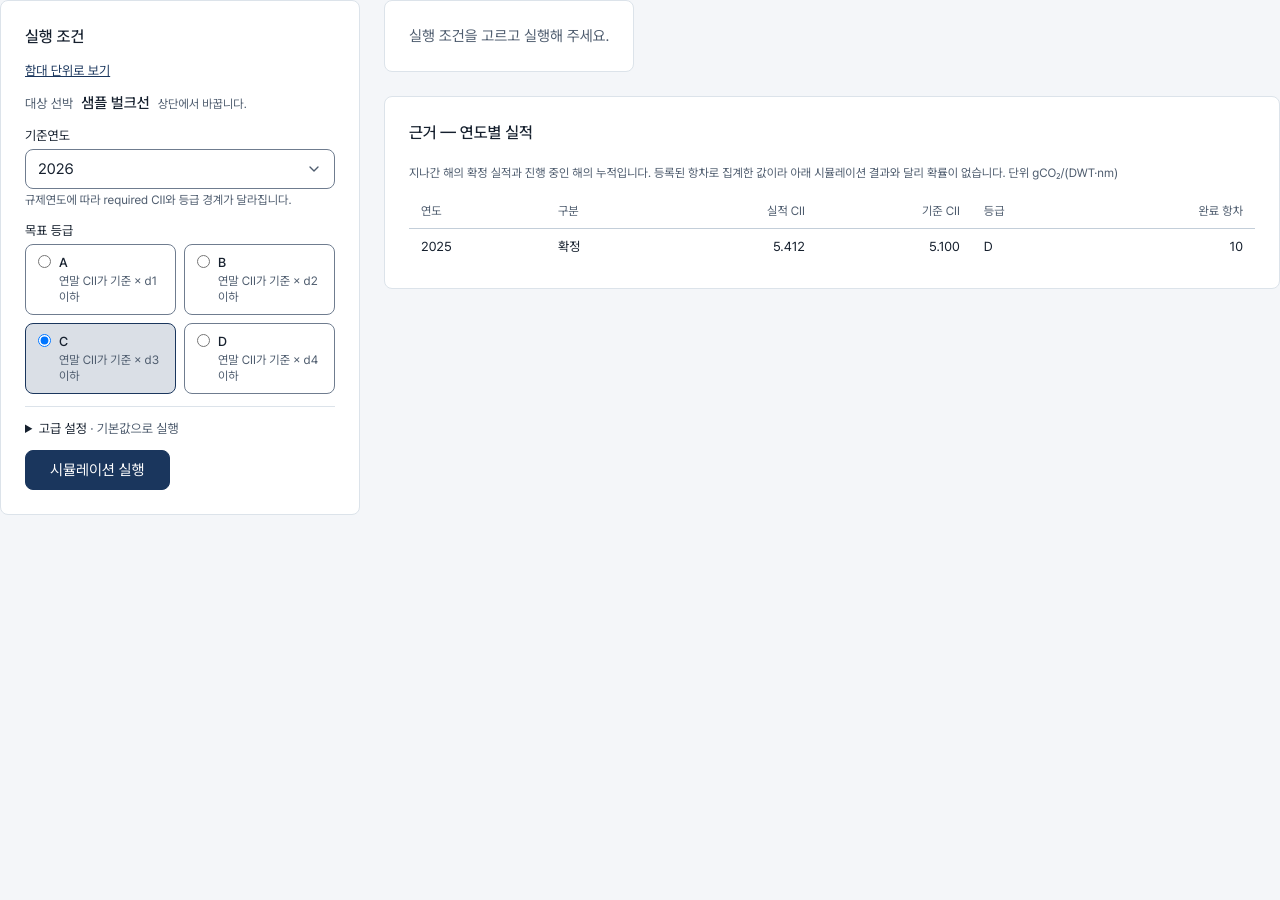
Test: 민감도 — 거리 행의 이유 (#756) › ⚠️ 잔여 계획이 0건이면 표 전체가 무의미하다고 말한다 (2026-09-13 화면 실측)
The image size is (1280, 900).
Click the button "시뮬레이션 실행" at (97, 470), box [25,450,170,490]
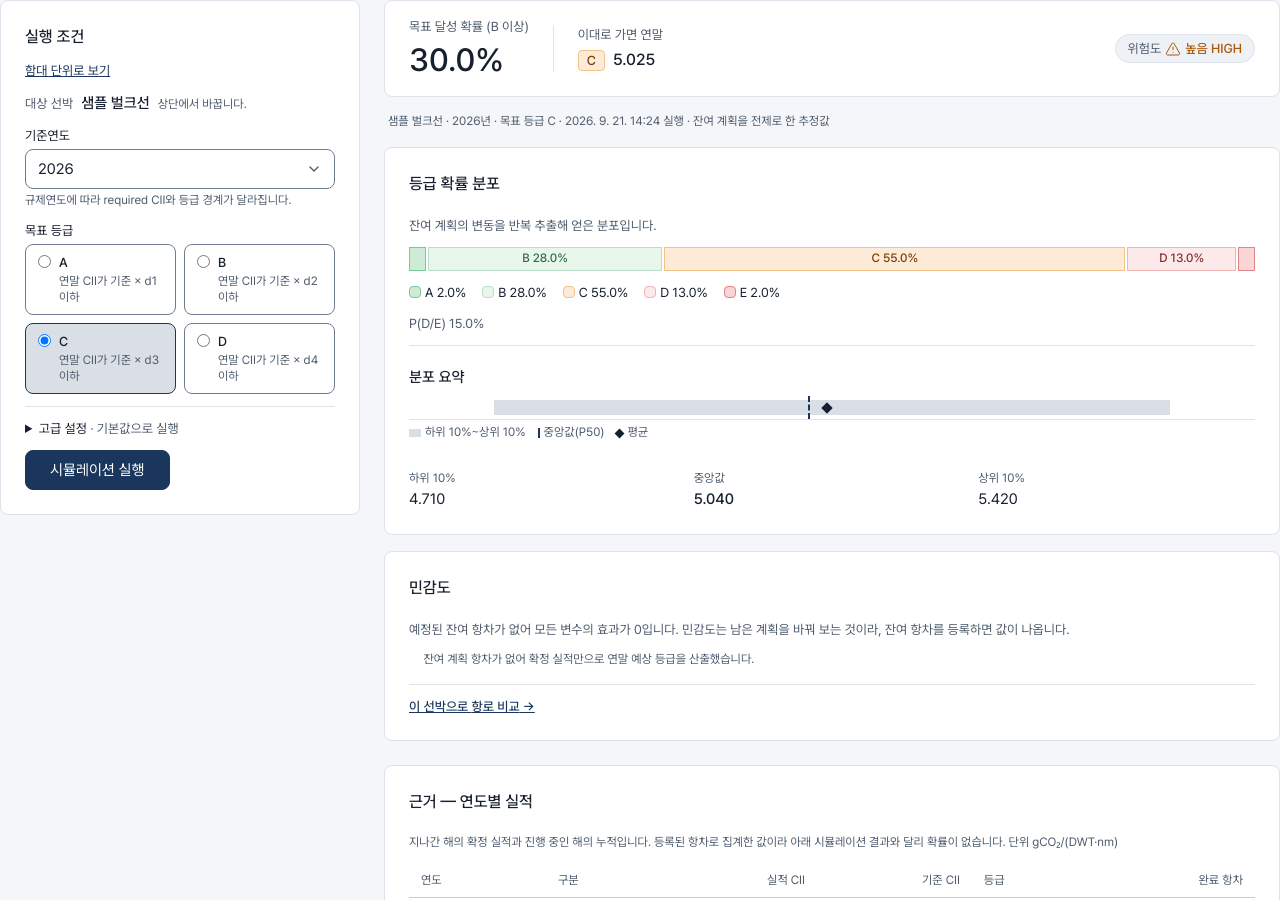
Expected: the text "예정된 잔여 항차가 없어 모든 변수의 효과가 0입니다. 민감도는 남은 계획을 바꿔 보는 것이라, 잔여 항차를 등록하면 값이 나옵니다." is shown, [409,622,1070,636]
